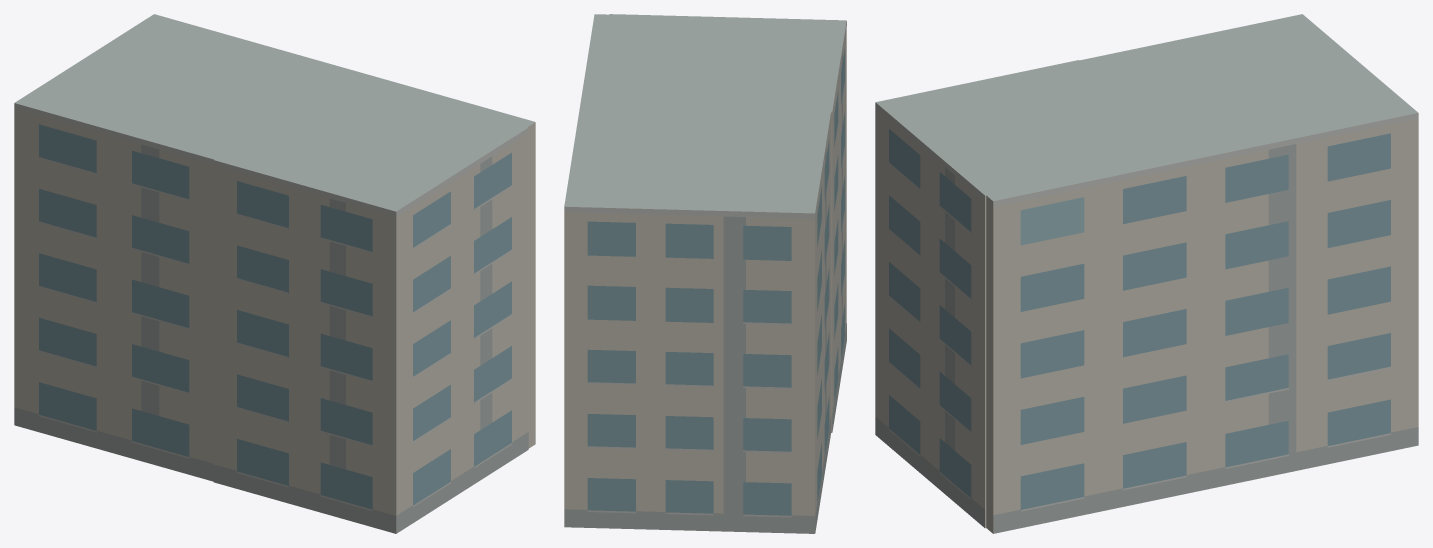
Rendered from survey-upis-32931283.glb.
The picture shows the model from 3 angles, left to right: view 1: azimuth 30°, elevation 25°; view 2: azimuth 150°, elevation 25°; view 3: azimuth 270°, elevation 25°; orthographic projection. The views are drawn at different scales.
Visible parts, largest first — view 1: survey-upis-32931283.tmp; view 2: survey-upis-32931283.tmp; view 3: survey-upis-32931283.tmp.
Part boxes in pixels (left/top/right/bottom): survey-upis-32931283.tmp: left=14, top=14, right=535, bottom=533; survey-upis-32931283.tmp: left=564, top=14, right=846, bottom=533; survey-upis-32931283.tmp: left=875, top=14, right=1418, bottom=533.
Bounding box in the file's own units: 17.15 × 14.2 × 21.02.
